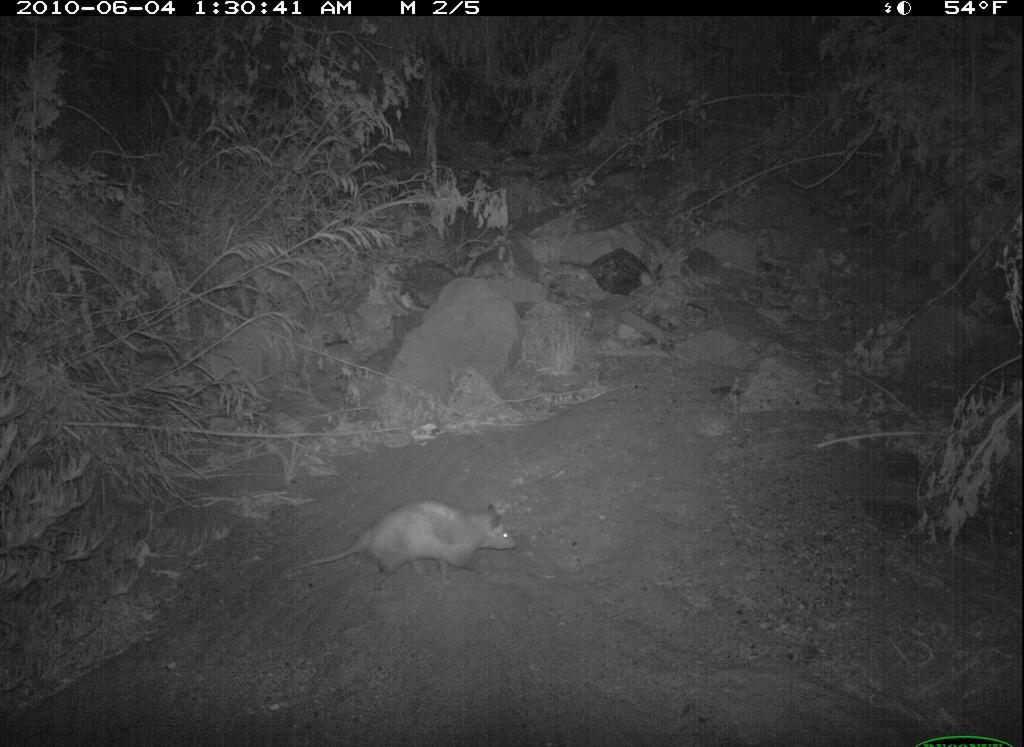opossum: (276, 489, 527, 592)
